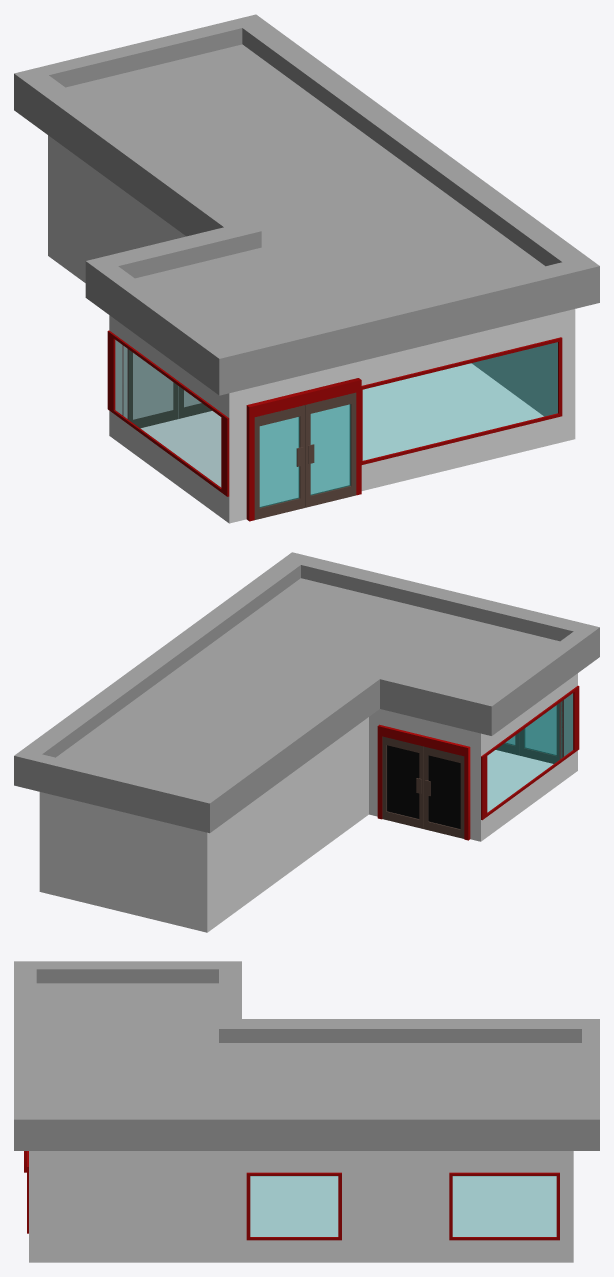
File: Building_Generic_Mod_04.fbx
3 renders of one model, top to bottom at view 1: azimuth 30°, elevation 25°; view 2: azimuth 150°, elevation 25°; view 3: azimuth 270°, elevation 25°, orthographic. The views are drawn at different scales.
Parts seen in each view (by area): view 1: Building8, Door13, Door12; view 2: Building8, Door12; view 3: Building8.
Part boxes in pixels (x1,y1,x2,y2): Building8: (14,14,599,523); Door13: (305,392,356,507); Door12: (254,405,305,519); Building8: (14,552,599,932); Door12: (519,701,562,763); Building8: (14,961,599,1262).
Bounding box in the file's own units: 5.5 × 2.43 × 8.61.
